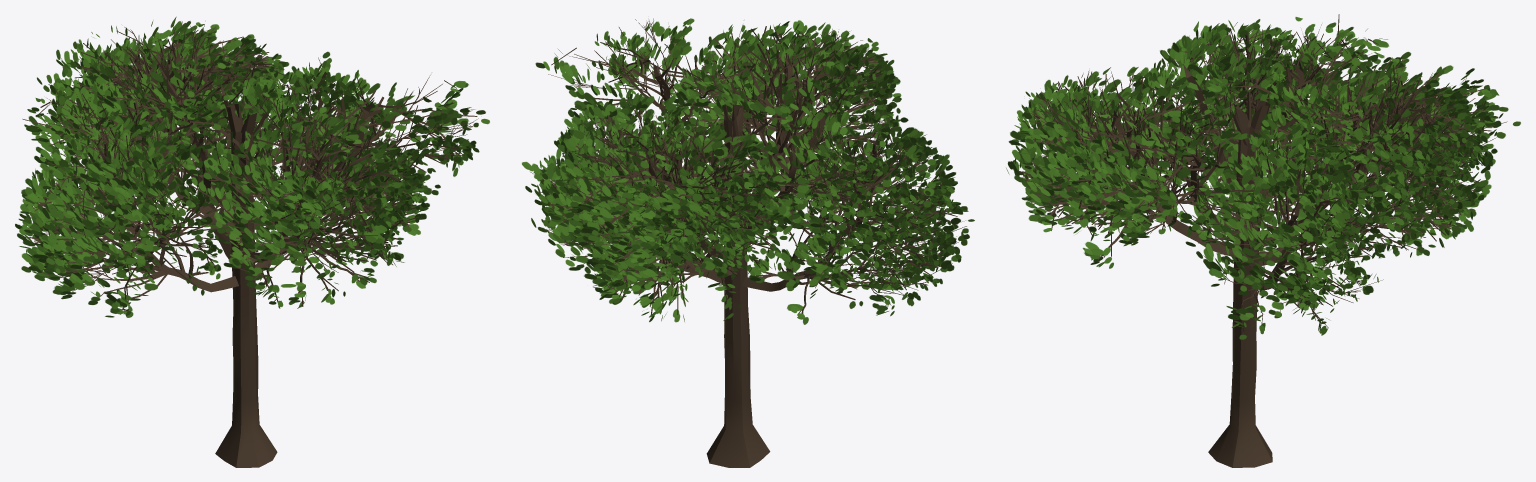
The picture shows the model from 3 angles, left to right: view 1: azimuth 30°, elevation 25°; view 2: azimuth 150°, elevation 25°; view 3: azimuth 270°, elevation 25°; orthographic projection. The views are drawn at different scales.
Parts seen in each view (by area): view 1: oak 01.001_trunk_Mat.001_0.033; view 2: oak 01.001_trunk_Mat.001_0.033; view 3: oak 01.001_trunk_Mat.001_0.033.
Boxes of the visible parts, x1,y1,x2,y2 form: oak 01.001_trunk_Mat.001_0.033: (15, 16, 489, 467); oak 01.001_trunk_Mat.001_0.033: (522, 18, 974, 467); oak 01.001_trunk_Mat.001_0.033: (1006, 14, 1520, 467).
Size of the model in its own units: 4.69 by 3.74 by 4.7.
2 materials, 1 textured.
